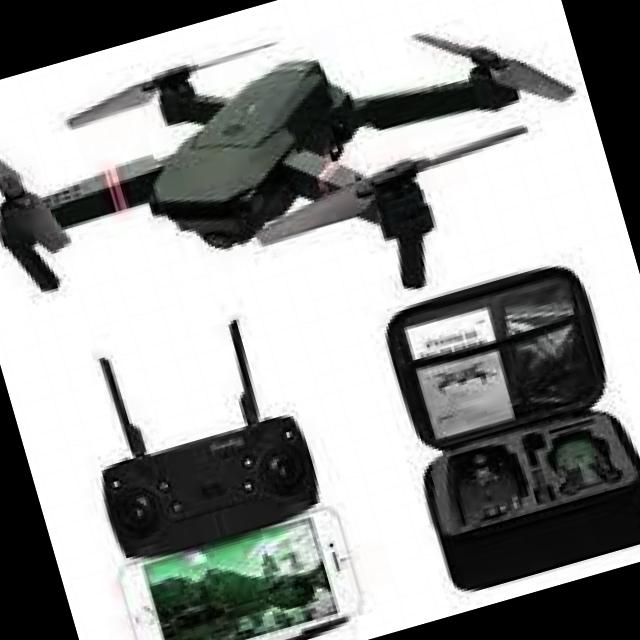drone: (0, 0, 627, 405)
